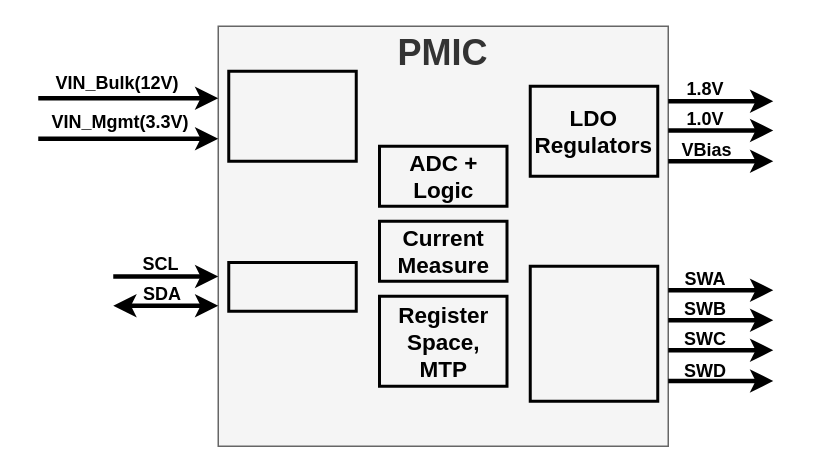
Some shapes in this 813 by 473 pixel diagram are drawn without their labels. The shapes that lost their labels are listed below. From the top down, each one's centre as x and y in pixels, then its label:
the point at 291,115: Input Voltage
the point at 291,286: I2C/I3C
the point at 593,333: Switching Regulators
